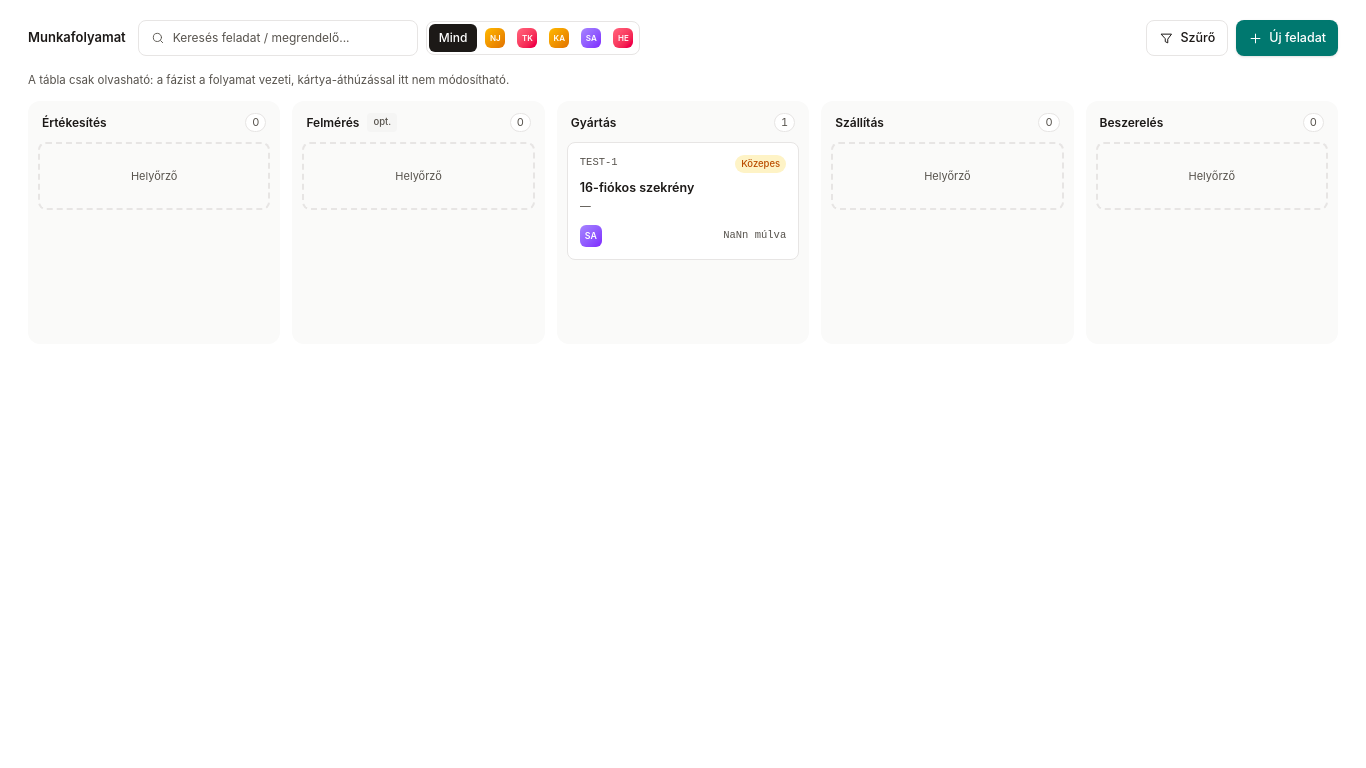
WorkflowPage › opens detail panel on card click
Click the text "16-fiókos szekrény" at (637, 188), box [580,180,694,195]
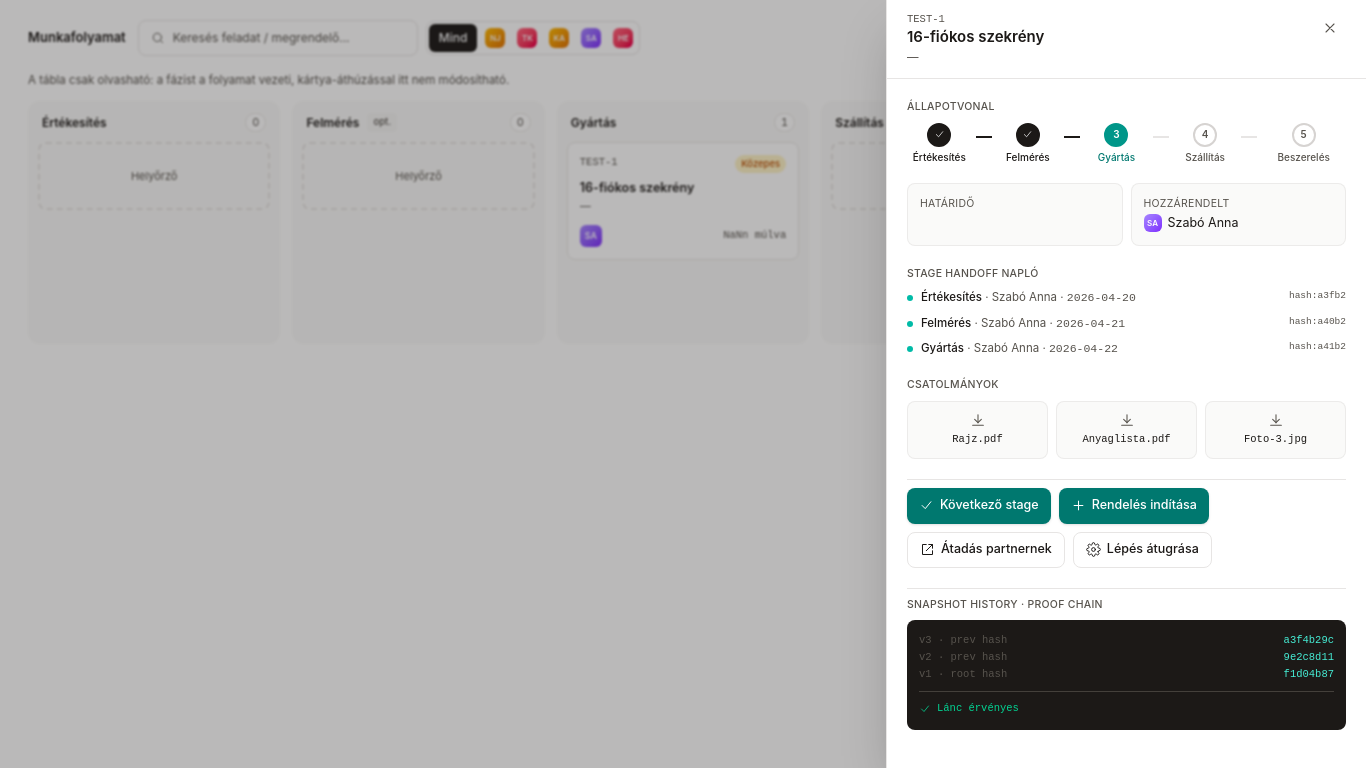
Now the text "Állapotvonal" is shown, box [907,100,995,113]
